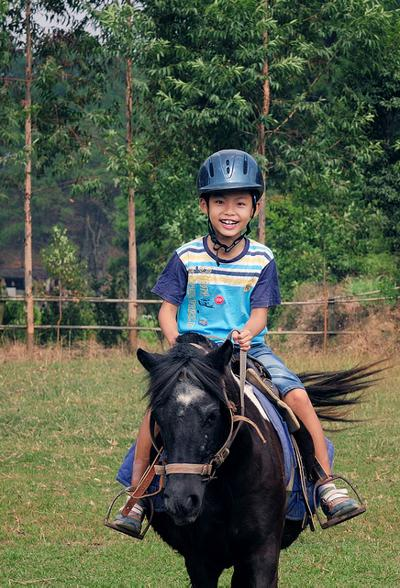person: (116, 149, 361, 537)
